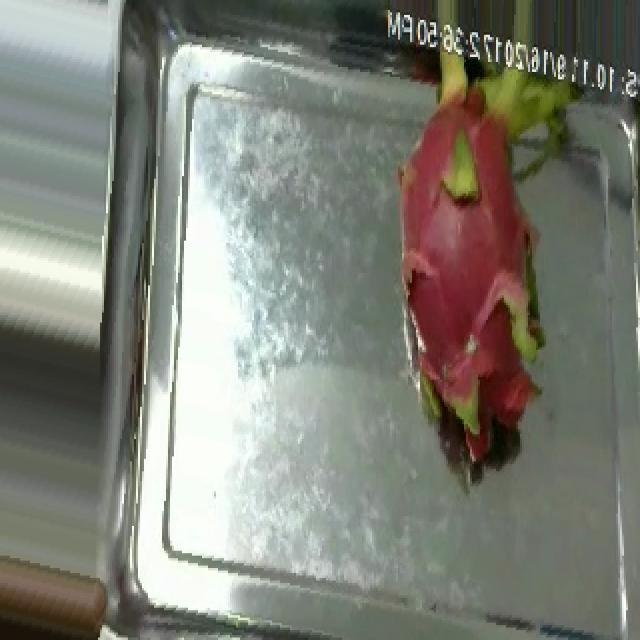fruit: (388, 25, 598, 464)
